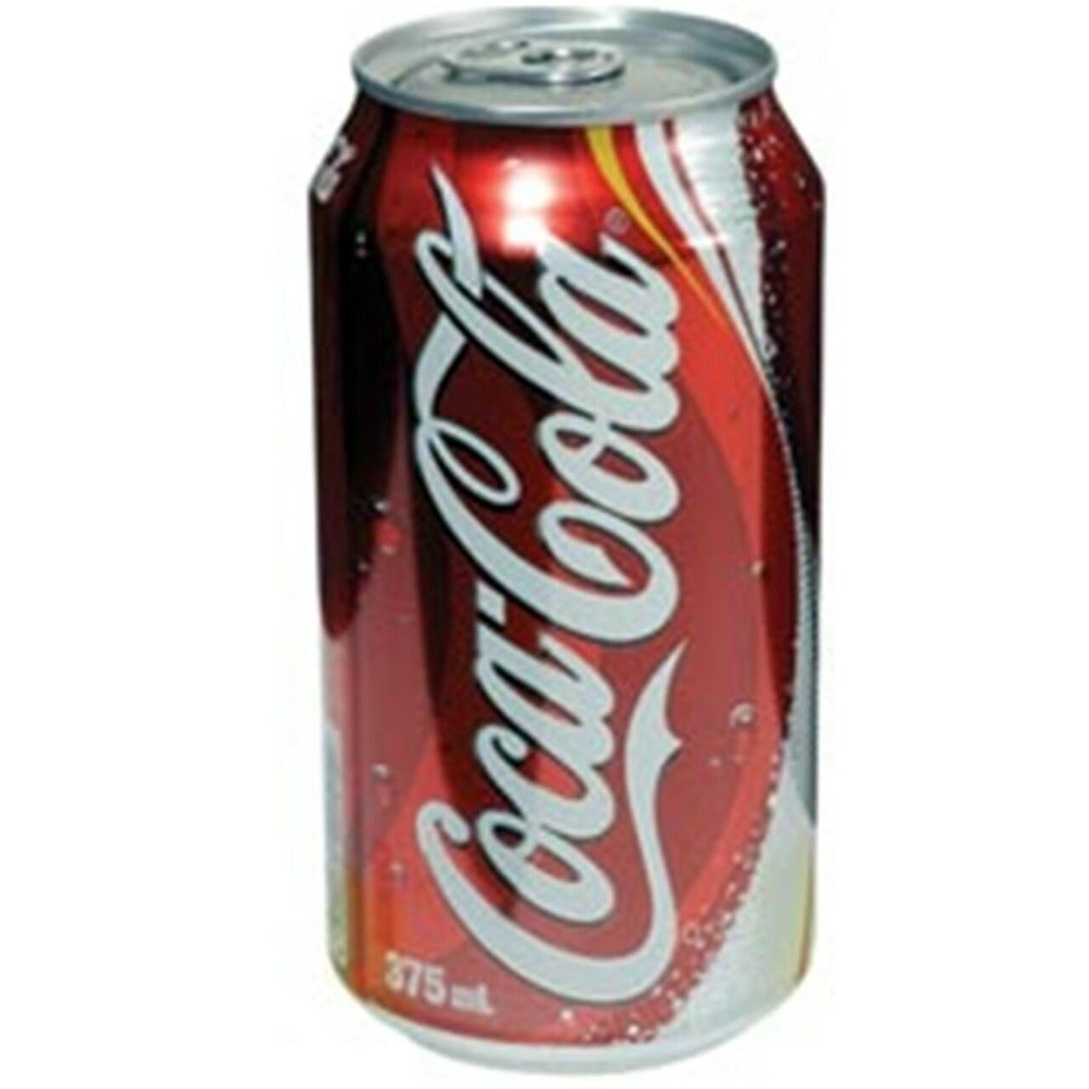tin can: (304, 2, 828, 1081)
